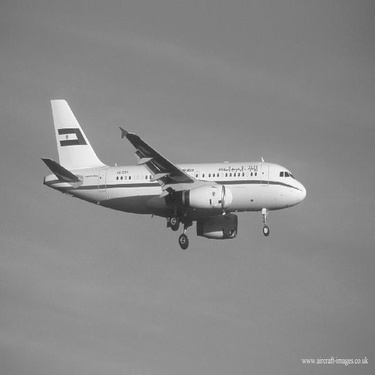airplane: (21, 86, 310, 256)
